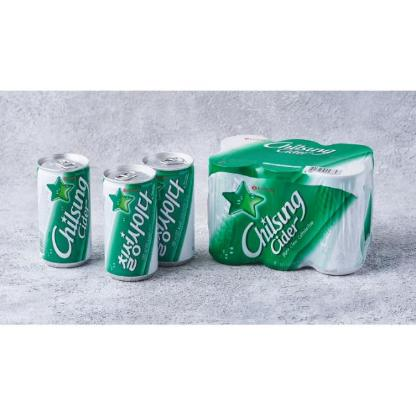Can: (36, 152, 92, 270), (102, 166, 156, 282)
